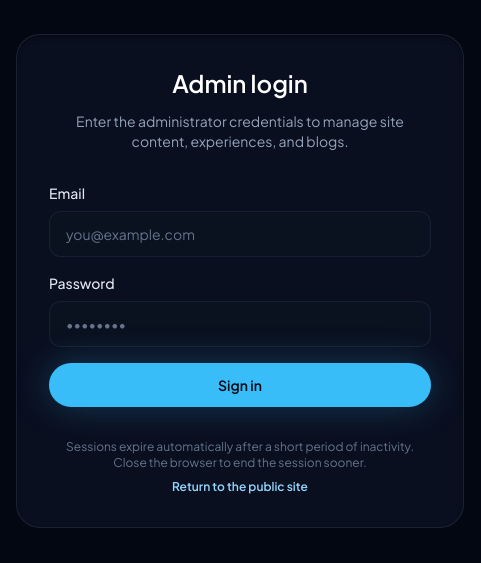
Test: LoginPage › shows validation error when fields are empty
What coordinates should you click on to do the following:
click the button "Sign in"
I would click on:
 (240, 385)
Its box is [49,363,431,407].
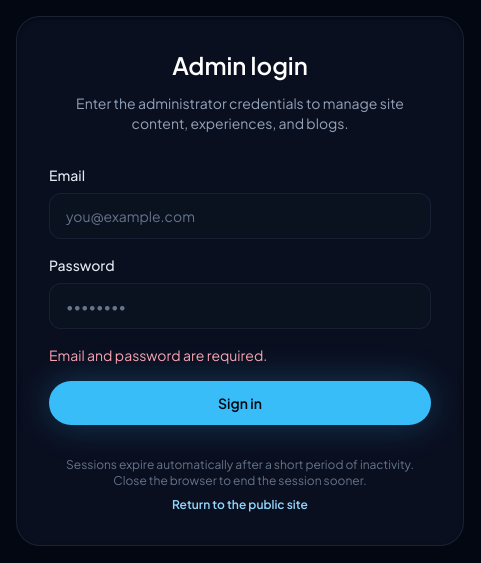
Check: the text "Email and password are required." is shown, box [49,346,267,364]
